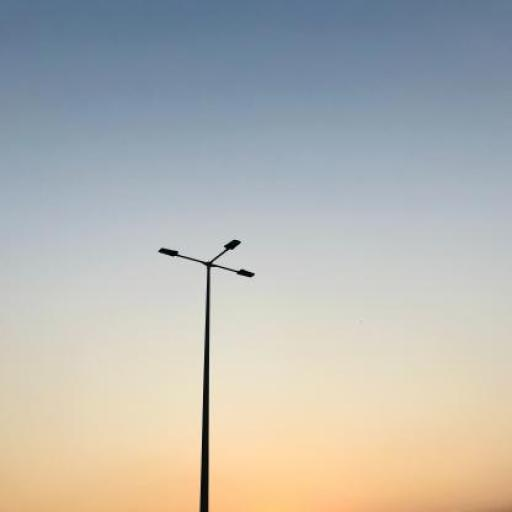street light: (158, 240, 256, 511)
